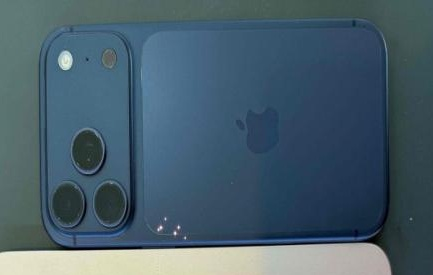scratch: (149, 189, 208, 264)
